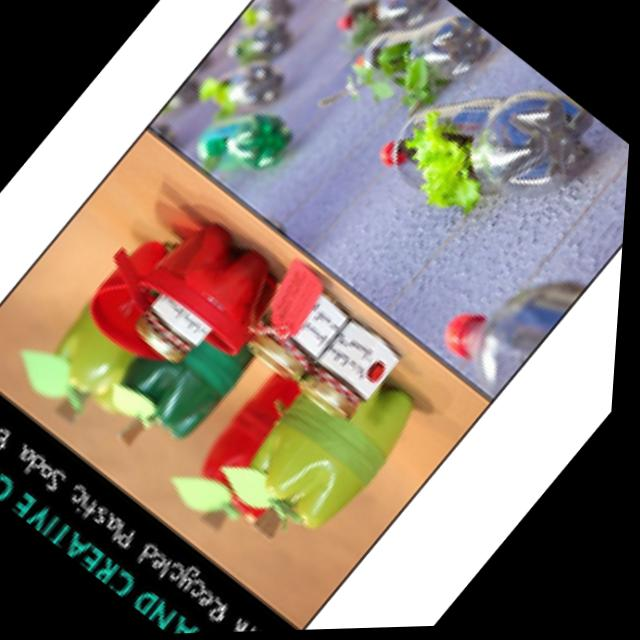plastic_soda_bottles: (369, 29, 631, 281), (341, 0, 506, 139), (335, 0, 445, 71)
